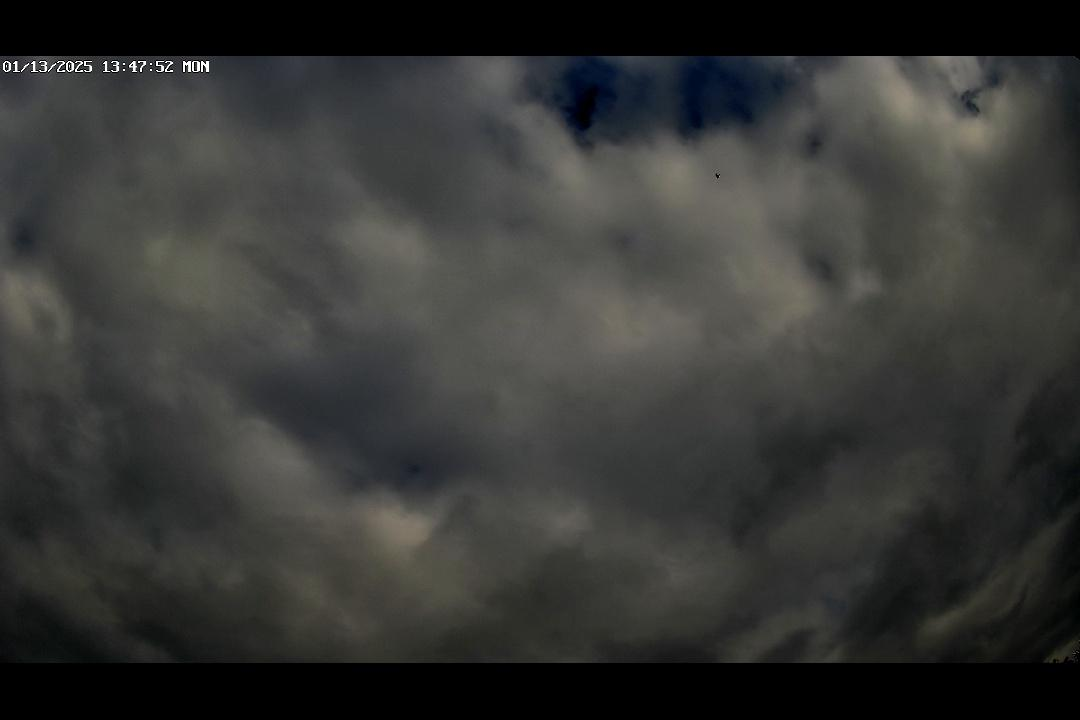WildLife: (699, 168, 738, 182)
